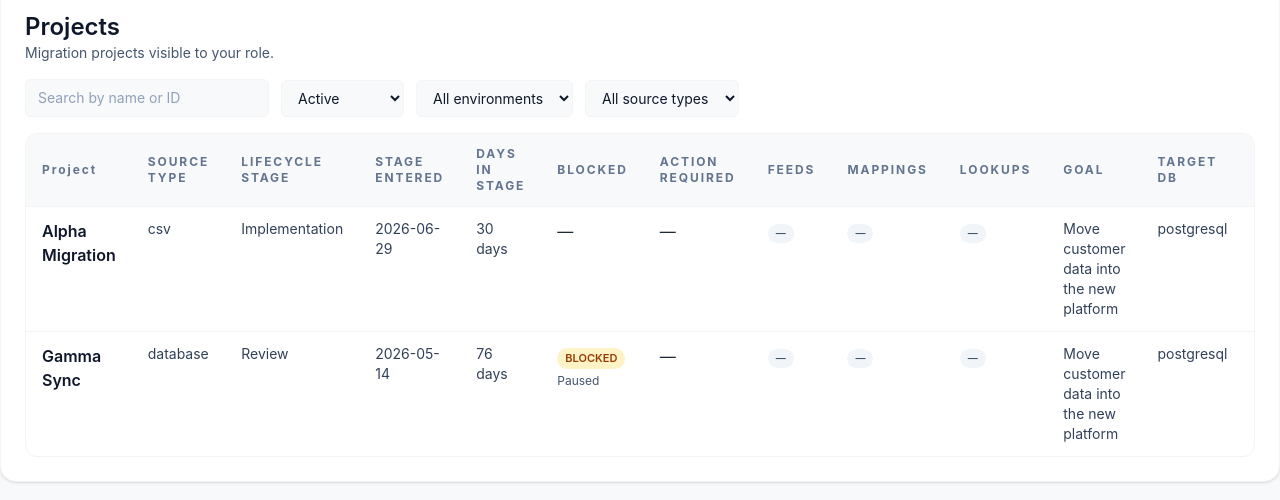
Test case: PortfolioTable › shows an empty state when filters remove every row
This screenshot has width=1280, height=500.
Type "missing-project" into the search field named "Search projects" at (147, 98), box [25,79,269,117]
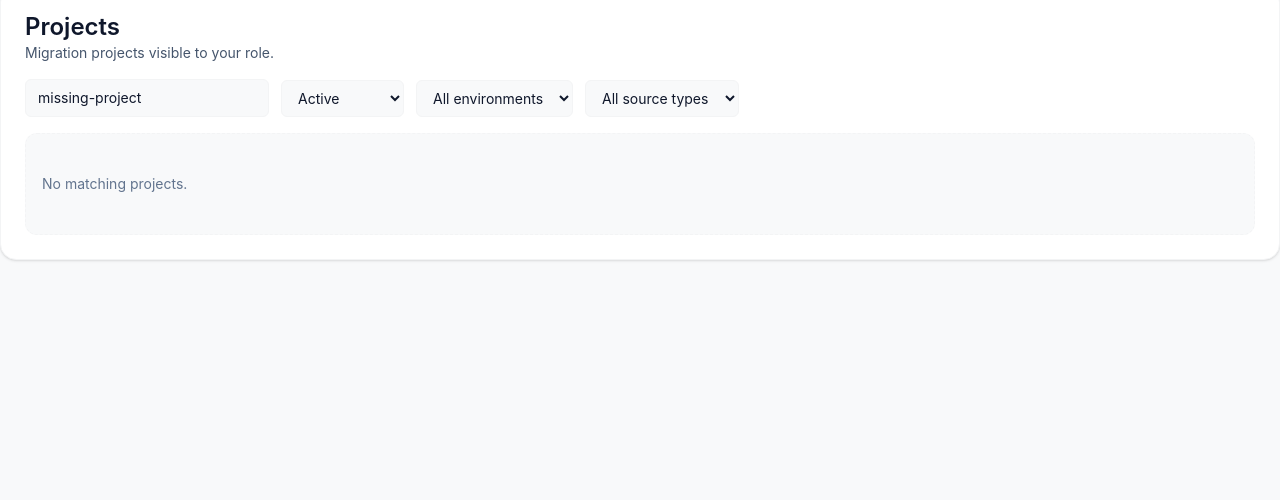
Result: the text "No matching projects." is shown at [25,133,1255,235]
